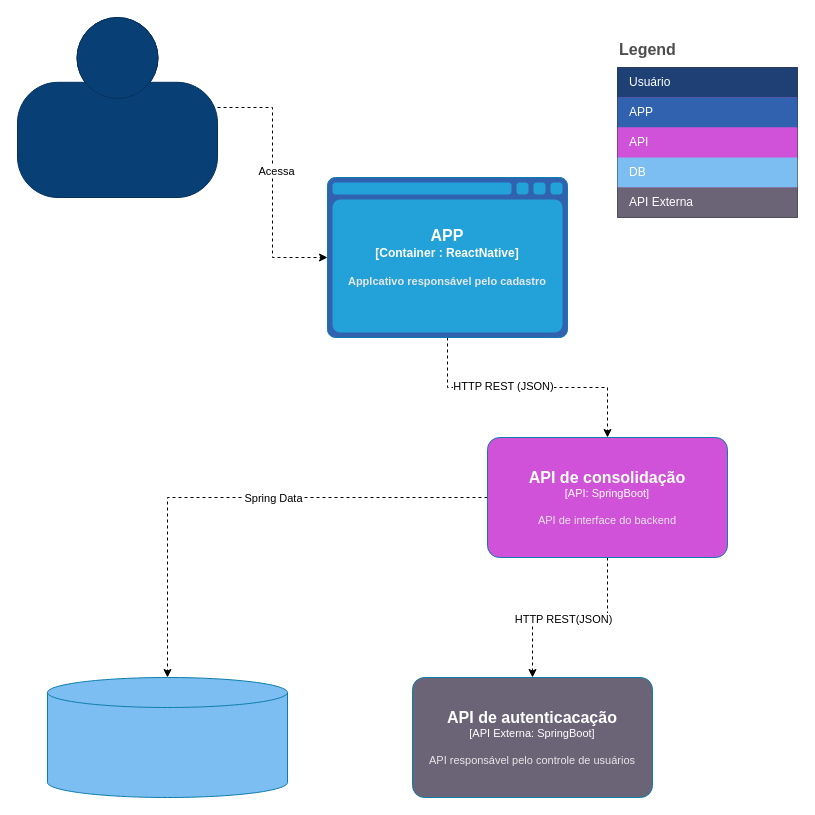
The diagram is 815 pixels wide and 815 high, and some of its shapes have lost their labels. The box of each missing label's shape, as (x1, y1, x2, y2) in pixels:
Consolidador [Usuário] Pessoa que faz o cadastro de visitantes.: (16, 16, 218, 198)
DB [Container : PostgreSQL] Base de dados responsável por cadastrar visitantes: (46, 676, 288, 798)
